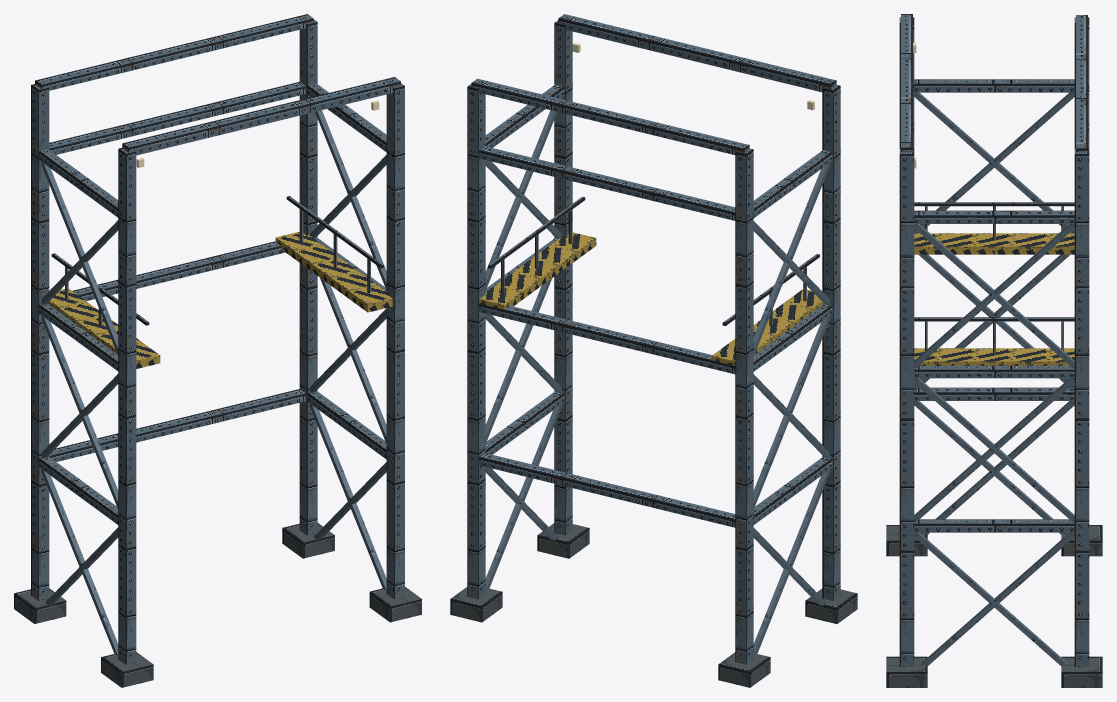
Rendered from maintenance_frame.glb.
3 renders of one model, left to right at view 1: azimuth 30°, elevation 25°; view 2: azimuth 150°, elevation 25°; view 3: azimuth 270°, elevation 25°, orthographic.
Parts seen in each view (by area): view 1: maintenance_frame; view 2: maintenance_frame; view 3: maintenance_frame.
Part boxes in pixels (bbox=[...]): maintenance_frame: bbox=[14, 14, 421, 687]; maintenance_frame: bbox=[450, 14, 857, 687]; maintenance_frame: bbox=[886, 14, 1102, 687].
Bounding box in the file's own units: 7.16 × 12.15 × 4.45.
Materials: 3 (2 with a texture image).
